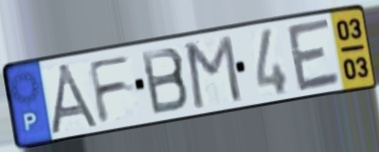4: (254, 25, 291, 98)
A: (47, 61, 104, 137)
B: (138, 44, 192, 118)
E: (284, 15, 344, 95)
F: (85, 52, 134, 127)
M: (184, 32, 245, 112)
